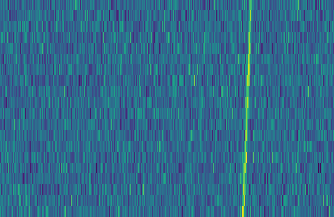signal: (240, 0, 256, 217)
